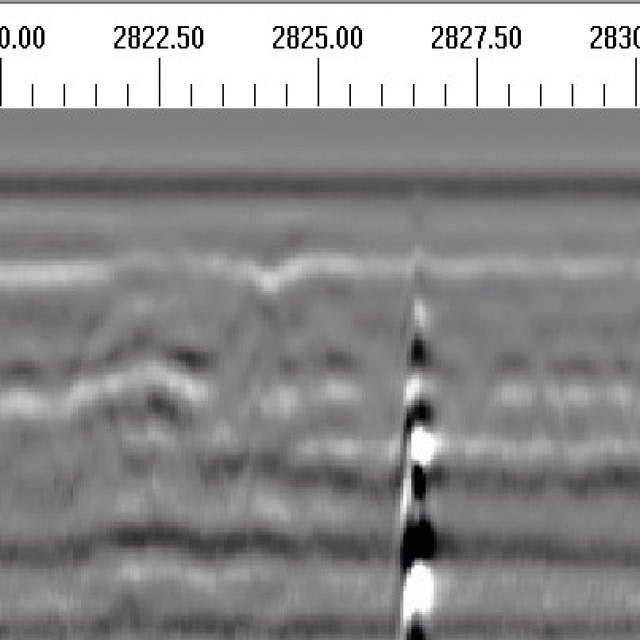crack: (395, 235, 438, 638)
